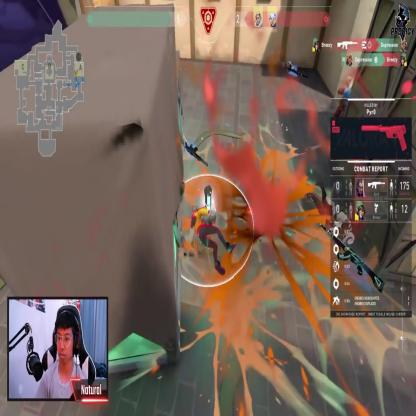enemy: (335, 70, 353, 138)
enemy_head: (346, 74, 351, 88)
